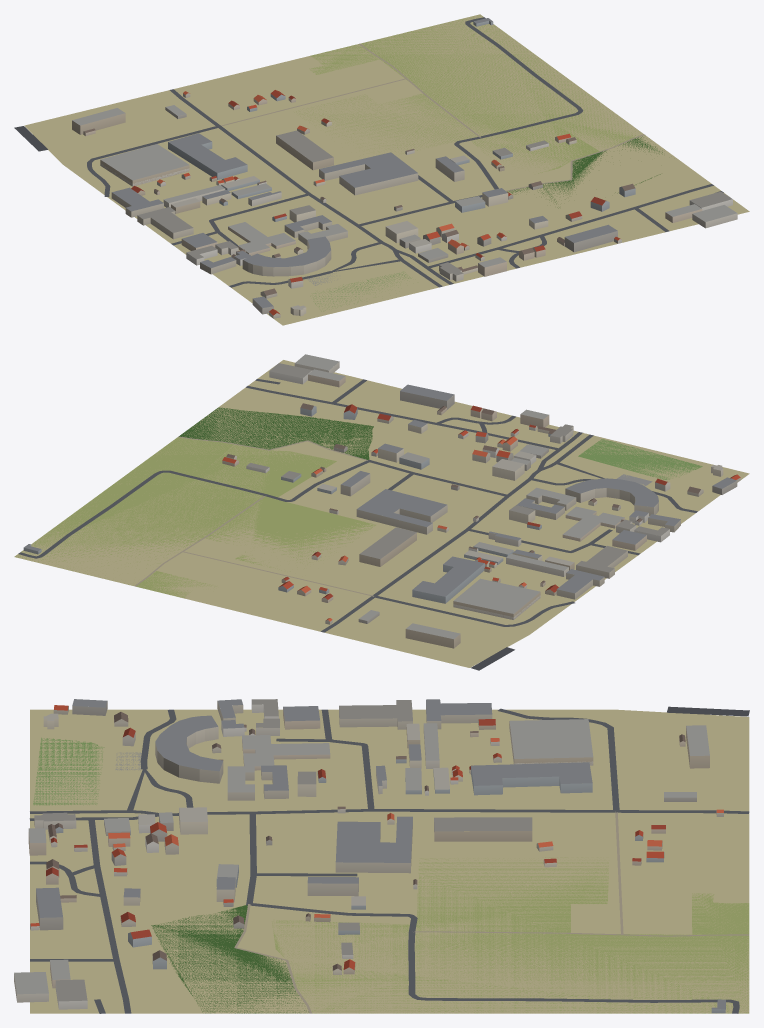
3 renders of one model, top to bottom at view 1: azimuth 30°, elevation 25°; view 2: azimuth 150°, elevation 25°; view 3: azimuth 270°, elevation 25°, orthographic. The views are drawn at different scales.
Parts seen in each view (by area): view 1: landuse, buildings_roofs, buildings_walls, roads; view 2: landuse, buildings_roofs, buildings_walls, roads; view 3: landuse, buildings_roofs, buildings_walls, roads.
Boxes of the visible parts, left/top/right/bottom form: landuse: left=24, top=14, right=749, bottom=325; buildings_roofs: left=72, top=18, right=737, bottom=315; buildings_walls: left=72, top=21, right=737, bottom=318; roads: left=14, top=17, right=723, bottom=287; landuse: left=14, top=360, right=749, bottom=667; buildings_roofs: left=24, top=354, right=740, bottom=639; buildings_walls: left=23, top=362, right=740, bottom=648; roads: left=18, top=379, right=697, bottom=670; landuse: left=30, top=709, right=749, bottom=1013; buildings_roofs: left=14, top=699, right=725, bottom=1009; buildings_walls: left=14, top=701, right=725, bottom=1013; roads: left=29, top=706, right=749, bottom=1013.
Size of the model in its own units: 505 by 9.65 by 512.
